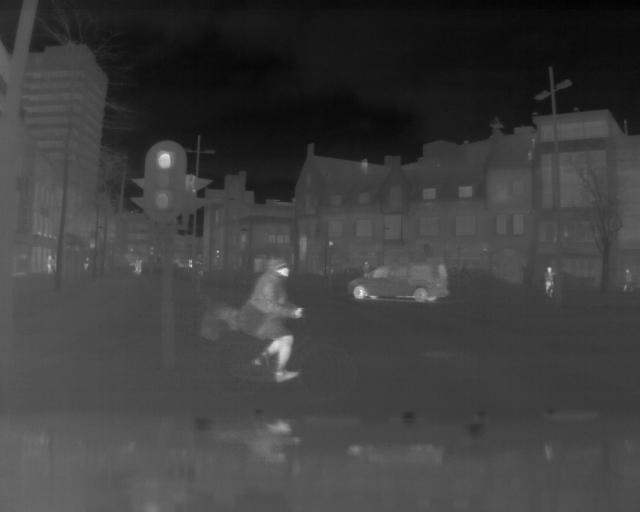car: (344, 265, 454, 304)
person: (238, 242, 303, 391), (540, 261, 559, 302), (620, 266, 632, 295), (45, 255, 54, 277)
